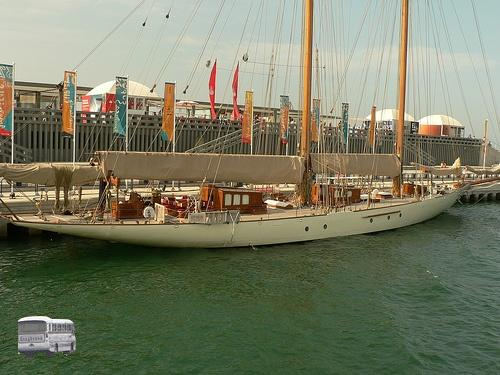tampered: (19, 317, 76, 358)
